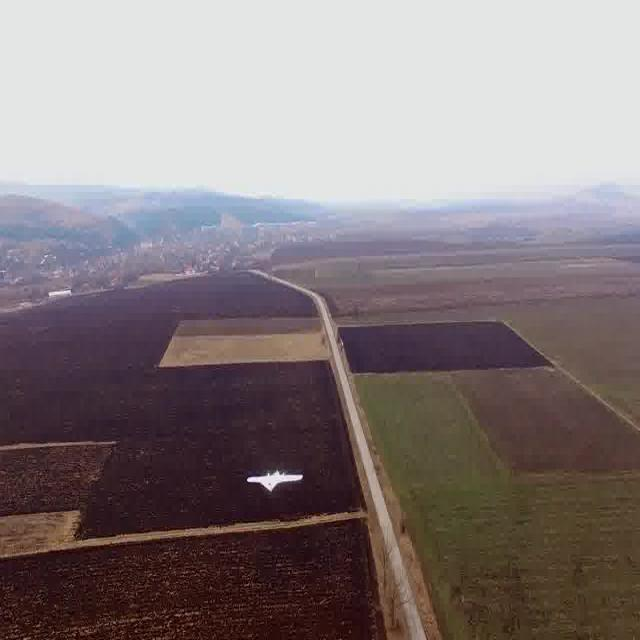iha: (270, 462, 283, 498)
